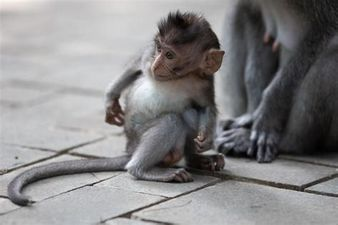monkey: (71, 7, 228, 157)
